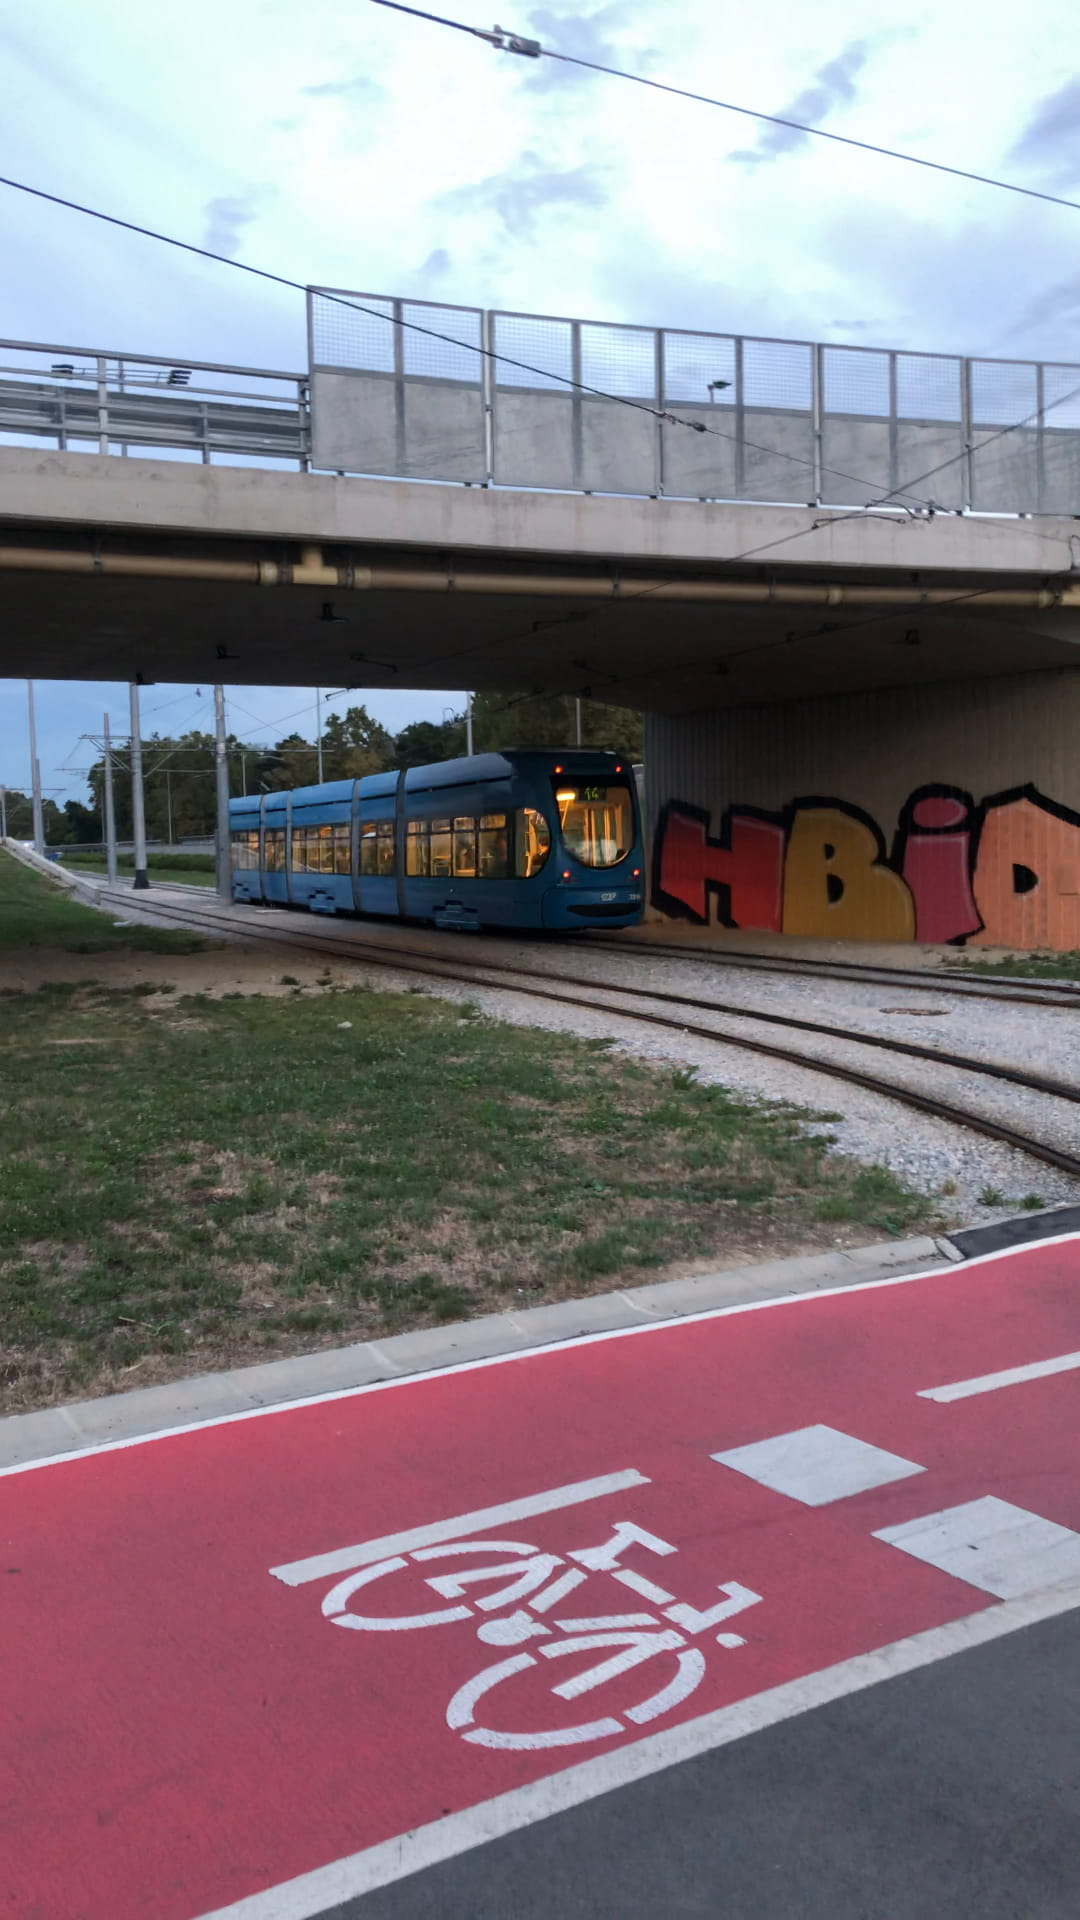tramvaj: (228, 740, 651, 935)
